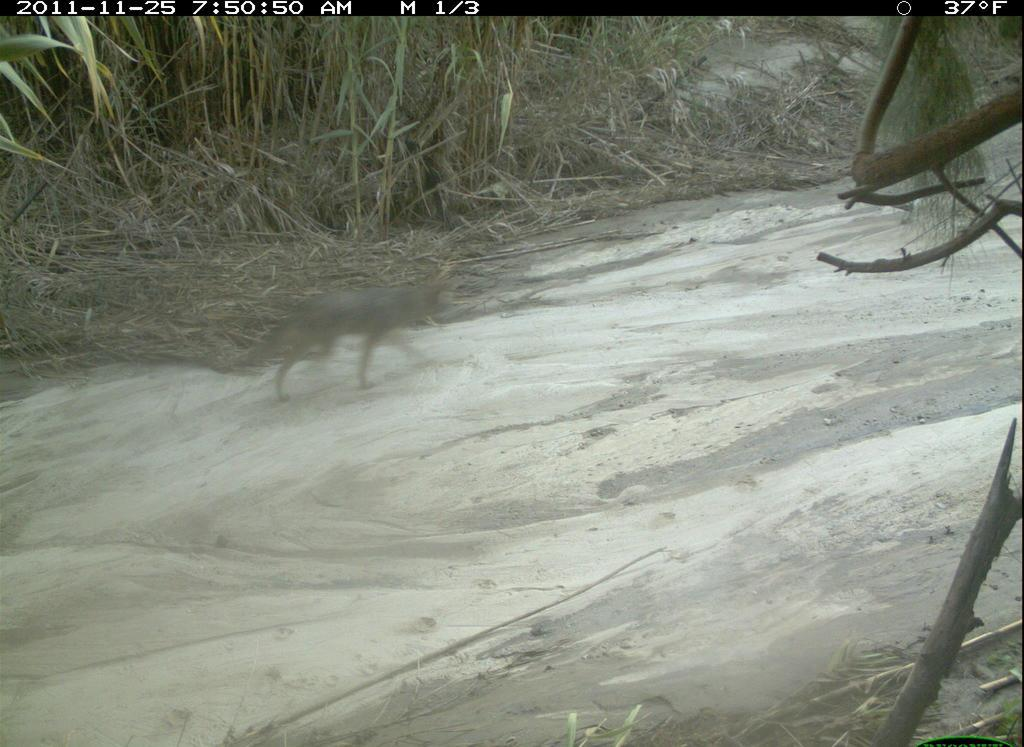coyote: (222, 263, 473, 413)
